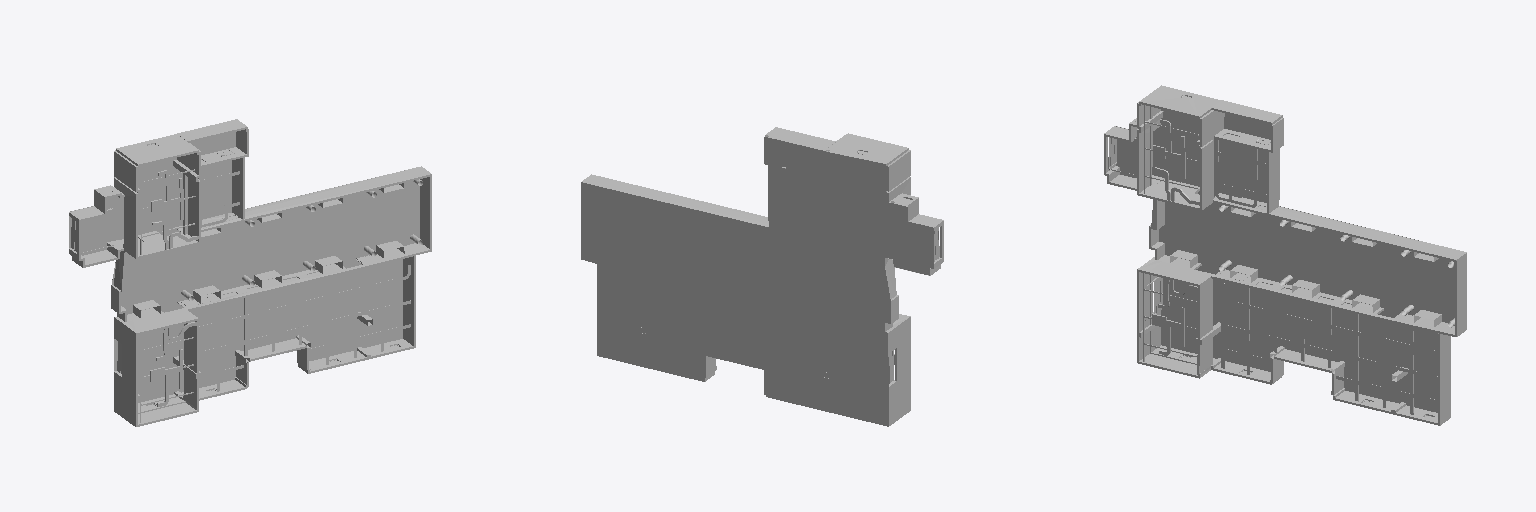
The model's file is iilab2xm1.obj.
3 renders of one model, left to right at view 1: azimuth 30°, elevation 25°; view 2: azimuth 150°, elevation 25°; view 3: azimuth 330°, elevation 25°, orthographic.
Visible parts, largest first — view 1: Floor, Wall1, Wall3.001, Wall4.001, CealingFrame, Wall2, Shafts, Ventilation_001, Ventilation, RoundedPosts, CealingFrame_001; view 2: Floor, Wall1, Wall3.001, Wall2; view 3: Floor, Wall1, Wall3.001, Wall4.001, CealingFrame, Shafts, Wall2, CealingFrame_001, Ventilation, Ventilation_001, RoundedPosts.
Boxes of the visible parts, box(x1,y1,x2,y2) form: Floor: box(69, 132, 419, 402); Wall1: box(114, 119, 431, 310); Wall3.001: box(114, 308, 198, 426); Wall4.001: box(182, 256, 415, 400); CealingFrame: box(189, 264, 410, 391); Wall2: box(69, 185, 127, 321); Shafts: box(133, 183, 404, 318); Ventilation_001: box(150, 322, 196, 406); Ventilation: box(151, 170, 198, 249); RoundedPosts: box(181, 179, 422, 300); CealingFrame_001: box(200, 162, 239, 227); Floor: box(581, 137, 933, 426); Wall1: box(582, 127, 910, 226); Wall3.001: box(886, 314, 910, 425); Wall2: box(885, 193, 943, 331); Floor: box(1116, 109, 1463, 412); Wall1: box(1137, 85, 1466, 336); Wall3.001: box(1137, 255, 1220, 378); Wall4.001: box(1213, 333, 1450, 425); CealingFrame: box(1213, 279, 1437, 414); Shafts: box(1170, 192, 1441, 326); Wall2: box(1104, 118, 1164, 259); CealingFrame_001: box(1215, 139, 1266, 207); Ventilation: box(1153, 119, 1199, 205); Ventilation_001: box(1152, 279, 1197, 355); RoundedPosts: box(1219, 205, 1454, 327).
Size of the model in its own units: 69.77 by 49.64 by 8.03.